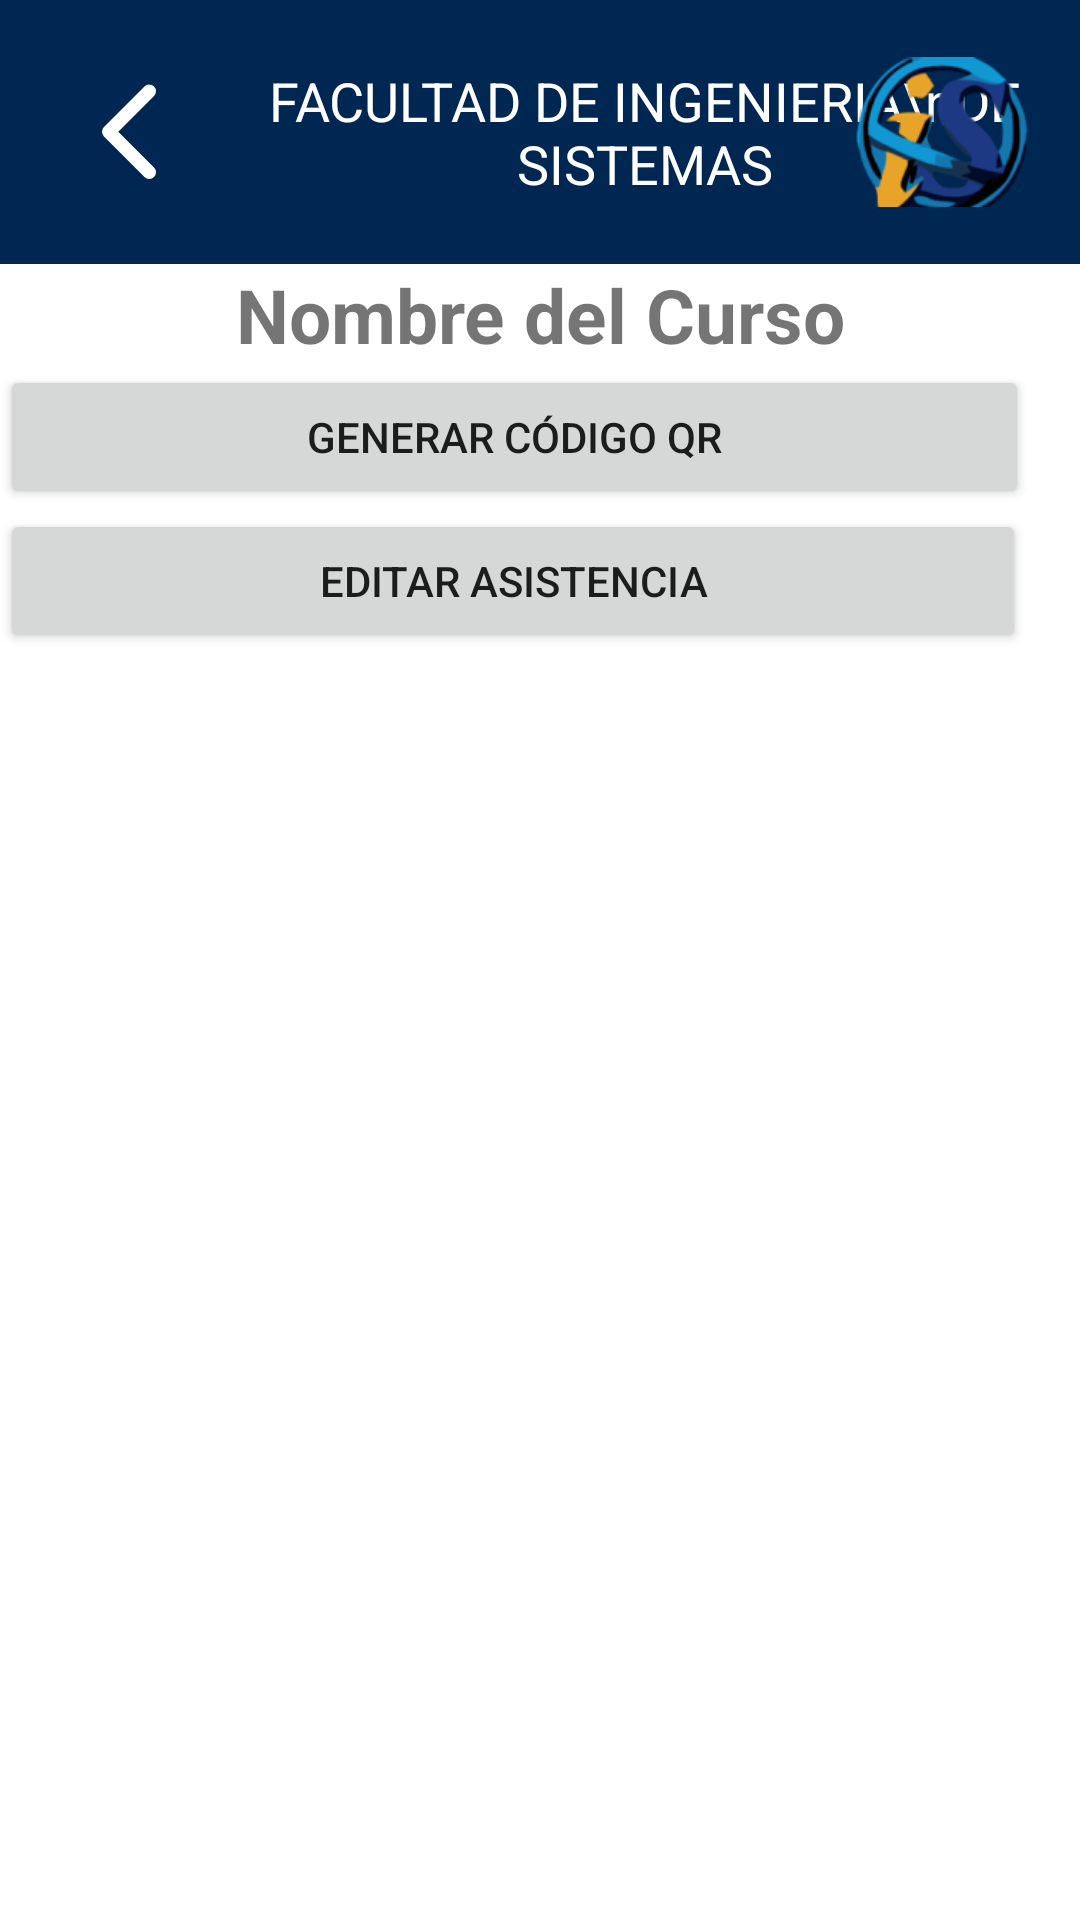

Icons on this 1080x1920 Android screen, each with its box as bbox(x1, y1, x2, y2):
volver: bbox(102, 84, 156, 179)
